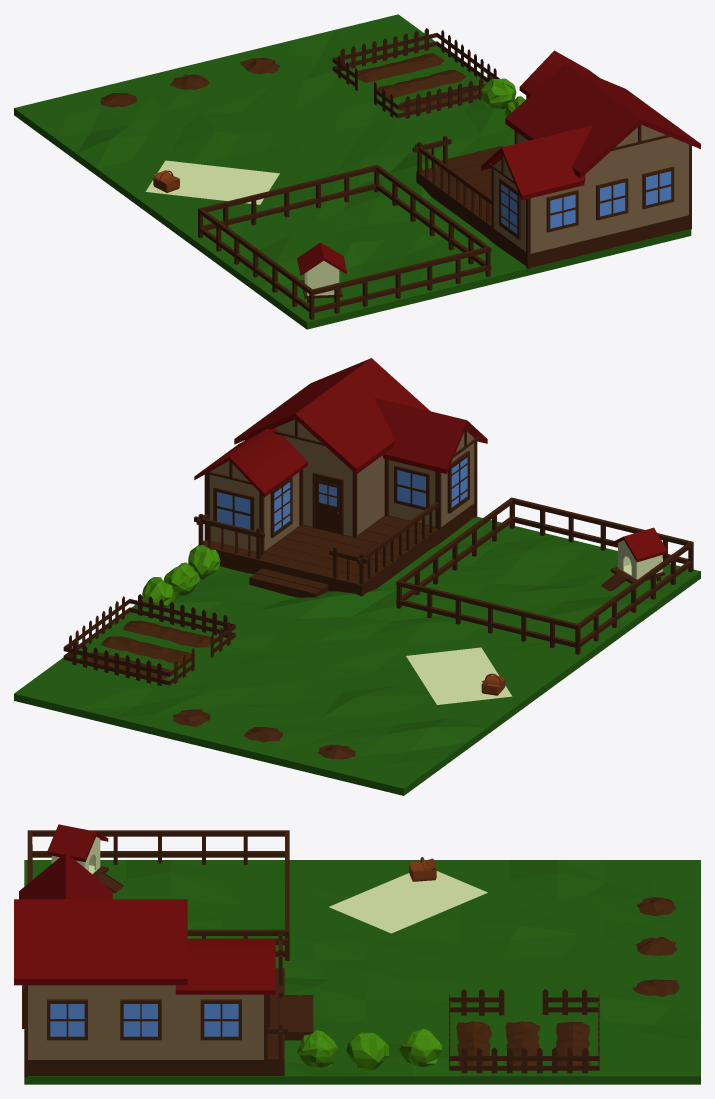
File: farm.fbx
The picture shows the model from 3 angles, top to bottom: view 1: azimuth 30°, elevation 25°; view 2: azimuth 150°, elevation 25°; view 3: azimuth 270°, elevation 25°; orthographic projection. The views are drawn at different scales.
Parts seen in each view (by area): view 1: ground, chickenhouse fence, house, roof, house base, fence horizontal, roof002, blanket, fence house, house wood, flower bed 1, flower bed 2 (+13 smaller); view 2: ground, house base, chickenhouse fence, house, roof, fence horizontal, roof002, blanket, roof001, house wood, fence house, door (+12 smaller); view 3: ground, roof, house, house base, roof001, chickenhouse fence, blanket, fence horizontal, roof002, chickenhouse roof, bush big002, bush big003 (+17 smaller).
Part boxes in pixels (left/top/right/bottom): ground: left=14, top=14, right=691, bottom=329; chickenhouse fence: left=198, top=164, right=491, bottom=319; house: left=494, top=125, right=688, bottom=253; roof: left=505, top=64, right=700, bottom=178; house base: left=416, top=146, right=688, bottom=267; fence horizontal: left=332, top=28, right=499, bottom=118; roof002: left=481, top=125, right=592, bottom=200; blanket: left=145, top=160, right=279, bottom=204; fence house: left=412, top=135, right=491, bottom=222; house wood: left=488, top=95, right=691, bottom=268; flower bed 1: left=358, top=53, right=444, bottom=82; flower bed 2: left=377, top=69, right=466, bottom=98; ground: left=14, top=516, right=700, bottom=795; house base: left=197, top=503, right=474, bottom=597; chickenhouse fence: left=396, top=497, right=693, bottom=654; house: left=210, top=419, right=474, bottom=551; roof: left=234, top=358, right=430, bottom=474; fence horizontal: left=63, top=594, right=235, bottom=685; roof002: left=374, top=397, right=487, bottom=473; blanket: left=406, top=647, right=512, bottom=704; roof001: left=194, top=427, right=307, bottom=497; house wood: left=204, top=419, right=480, bottom=554; fence house: left=194, top=502, right=438, bottom=584; door: left=312, top=472, right=343, bottom=535; ground: left=24, top=860, right=700, bottom=1084; roof: left=14, top=899, right=187, bottom=985; house: left=28, top=985, right=263, bottom=1059; house base: left=28, top=968, right=313, bottom=1075; roof001: left=175, top=938, right=275, bottom=994; chickenhouse fence: left=27, top=830, right=289, bottom=960; blanket: left=329, top=871, right=487, bottom=933; fence horizontal: left=449, top=989, right=599, bottom=1073; roof002: left=19, top=852, right=112, bottom=899; chickenhouse roof: left=47, top=824, right=108, bottom=862; bush big002: left=346, top=1032, right=389, bottom=1070; bush big003: left=399, top=1028, right=442, bottom=1066.
Size of the model in its own units: 212 by 69.39 by 280.
